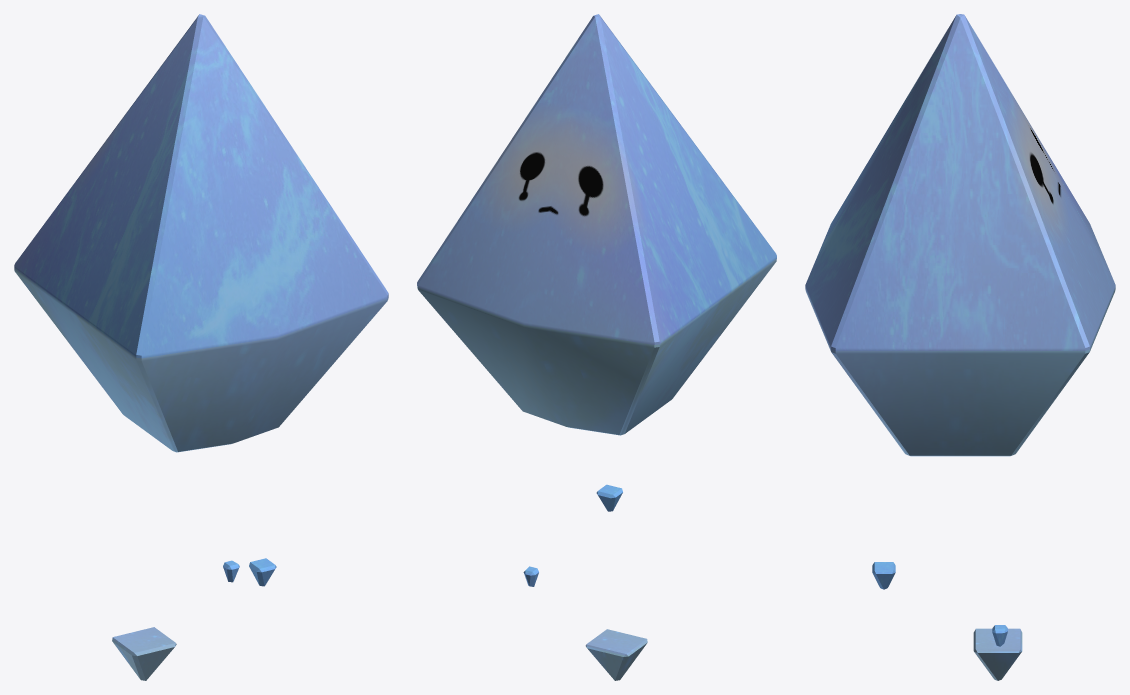
File: Soul.fbx
The picture shows the model from 3 angles, left to right: view 1: azimuth 30°, elevation 25°; view 2: azimuth 150°, elevation 25°; view 3: azimuth 270°, elevation 25°; orthographic projection. The views are drawn at different scales.
Parts seen in each view (by area): view 1: Soul; view 2: Soul; view 3: Soul.
Part boxes in pixels (x1,y1,x2,y2): Soul: (14, 14, 388, 680); Soul: (417, 14, 776, 680); Soul: (805, 14, 1115, 680).
Bounding box in the file's own units: 18.27 × 46.21 × 18.99.
Materials: 1 (1 with a texture image).
